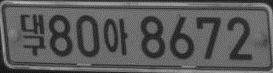0: (75, 14, 100, 58)
2: (227, 16, 252, 60)
6: (169, 16, 194, 59)
7: (195, 16, 221, 59)
8: (140, 15, 166, 58), (48, 13, 73, 57)
대구_V: (19, 13, 47, 56)
아: (103, 17, 128, 55)
